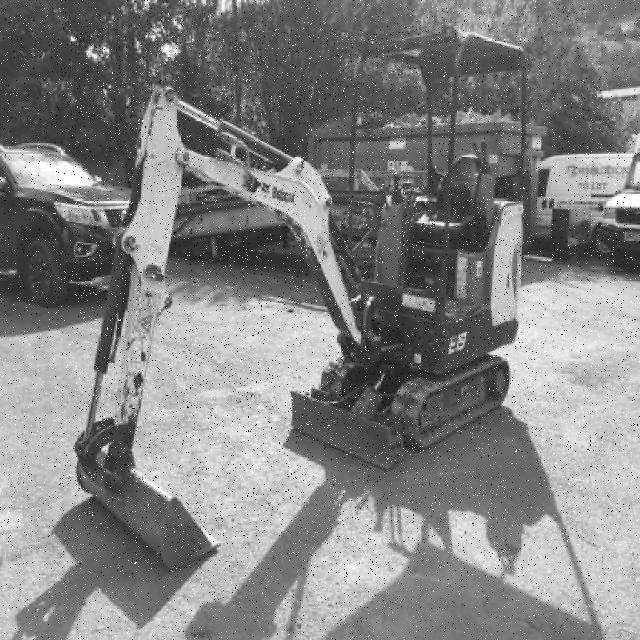Construction Equipment: (74, 32, 531, 570)
